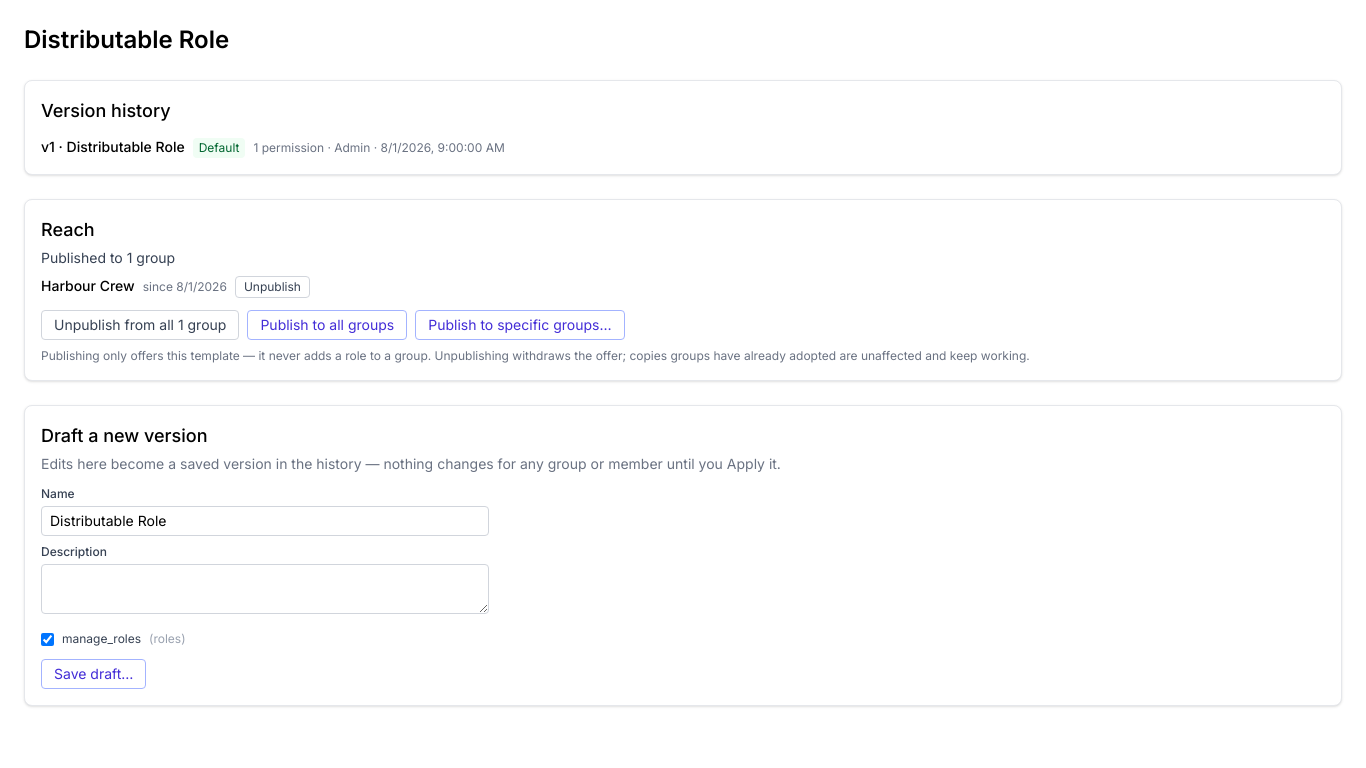
it: FEAT-H044 STORY-3 — the reach section › W5: a group already published to is not offered again
What coordinates should you click on to do the following:
click the button "Publish to specific groups…"
I would click on:
 (520, 325)
Its box is [415,310,624,340].
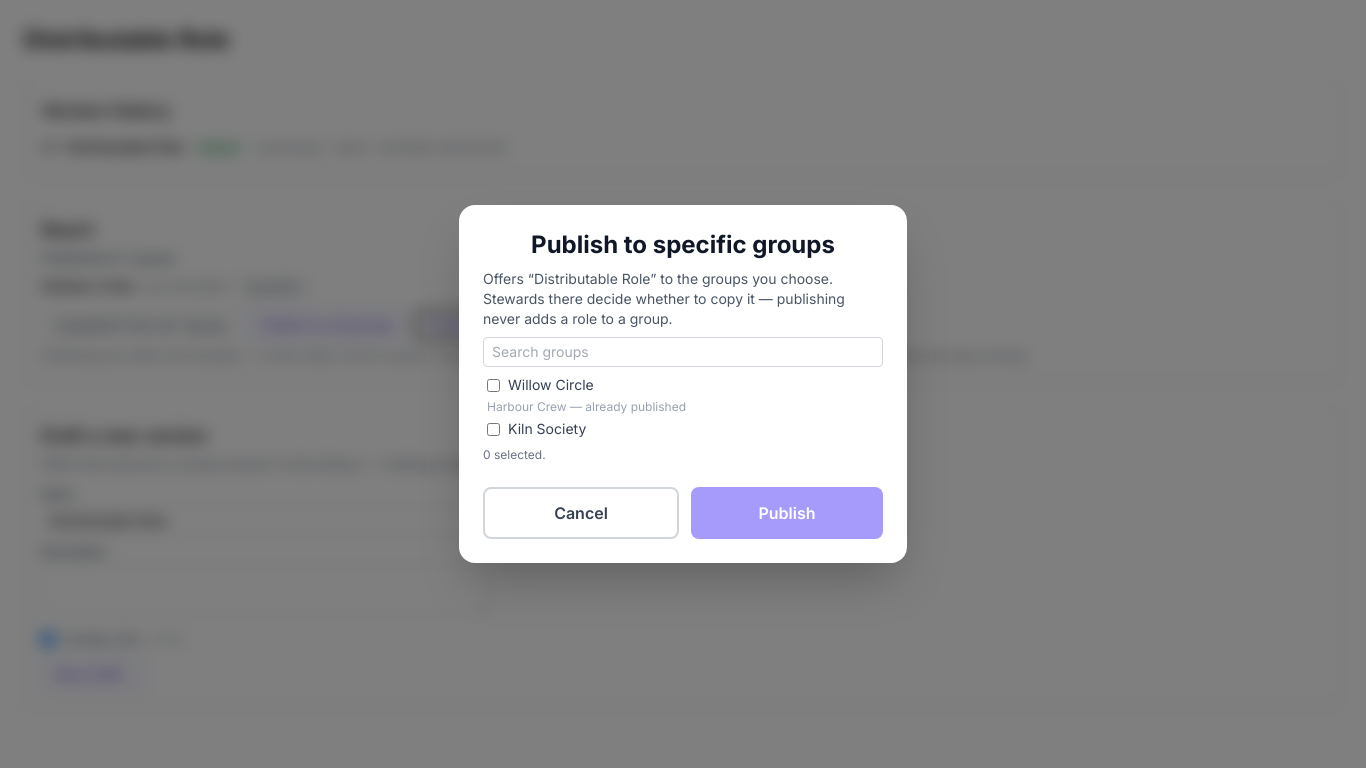
expect the text "Willow Circle" is shown: met, box [487,376,594,393]
expect the text "Harbour Crew — already published" is shown: met, box [487,399,686,414]
